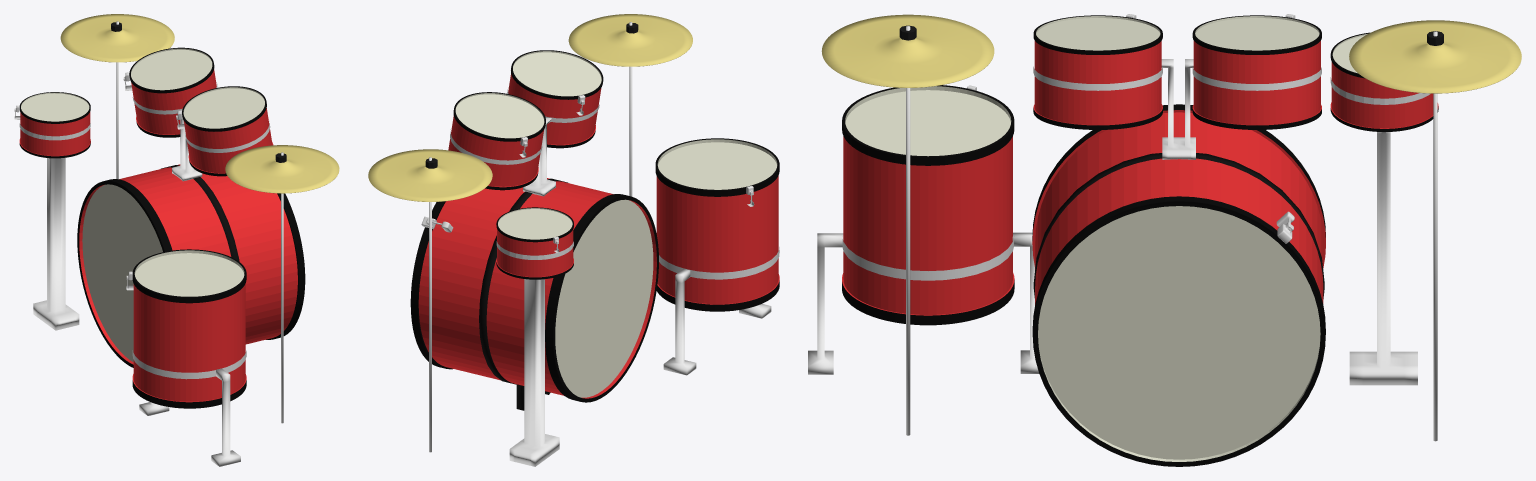
File: DRUM SET 1.gltf
3 views of the same model, side by side, from view 1: azimuth 30°, elevation 25°; view 2: azimuth 150°, elevation 25°; view 3: azimuth 270°, elevation 25° (orthographic). The views are drawn at different scales.
Parts seen in each view (by area): view 1: Cylinder, Cylinder.001, Cylinder.002, Cylinder.003, Cymbal.001, cymbal, Cylinder.004, Cube.008, Cube, Circle.001, Circle, Cylinder.007 (+4 smaller); view 2: Cylinder, Cylinder.001, Cylinder.003, Cylinder.002, cymbal, Cymbal.001, Cylinder.004, Cube.008, Circle, Cube.003, Circle.001, Cube.006 (+3 smaller); view 3: Cylinder, Cylinder.001, Cylinder.002, Cylinder.003, cymbal, Cymbal.001, Cube.008, Cylinder.004, Circle, Cube, Cube.006, Cylinder.006 (+5 smaller).
Boxes of the visible parts, x1,y1,x2,y2 form: Cylinder: (77,164,305,367); Cylinder.001: (132,249,246,408); Cylinder.002: (182,86,273,176); Cylinder.003: (129,47,216,137); Cymbal.001: (225,145,339,193); cymbal: (60,14,174,62); Cylinder.004: (19,92,90,158); Cube.008: (33,156,79,330); Cube: (211,368,240,466); Circle.001: (132,350,246,379); Circle: (161,165,239,261); Cylinder.007: (281,152,283,423); Cylinder: (410,178,658,402); Cylinder.001: (655,138,779,311); Cylinder.003: (448,92,545,190); Cylinder.002: (508,50,603,148); cymbal: (368,149,492,201); Cymbal.001: (568,14,692,66); Cylinder.004: (496,207,573,279); Cube.008: (509,279,559,466); Circle: (479,178,567,410); Cube.003: (663,269,696,375); Circle.001: (659,247,779,279); Cube.006: (523,118,555,196); Cylinder: (1032,104,1325,466); Cylinder.001: (842,85,1014,325); Cylinder.002: (1033,15,1162,129); Cylinder.003: (1192,15,1321,129); cymbal: (1349,20,1521,93); Cymbal.001: (821,14,994,87); Cube.008: (1349,132,1417,385); Cylinder.004: (1330,32,1438,131); Circle: (1033,153,1324,298); Cube: (808,233,843,374); Cube.006: (1161,59,1195,159); Cylinder.006: (1433,31,1437,441).
Bounding box in the file's own units: 0.8148 × 1.11 × 1.65.
